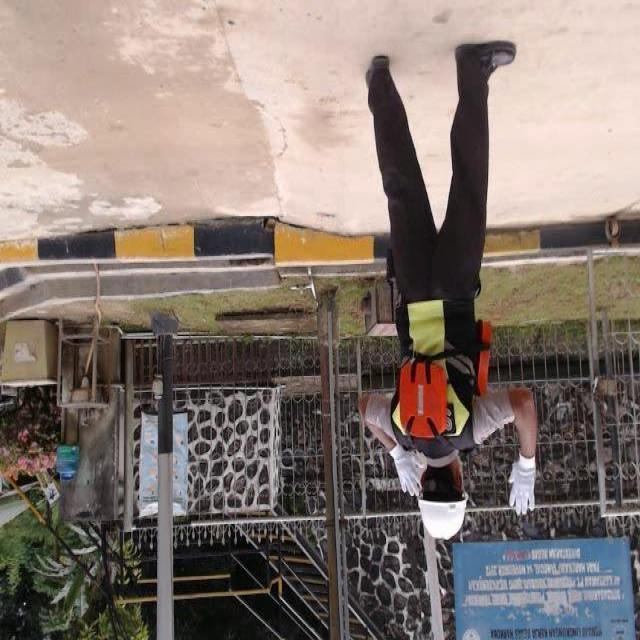helmet: (408, 490, 478, 548)
jacket: (387, 299, 491, 459)
